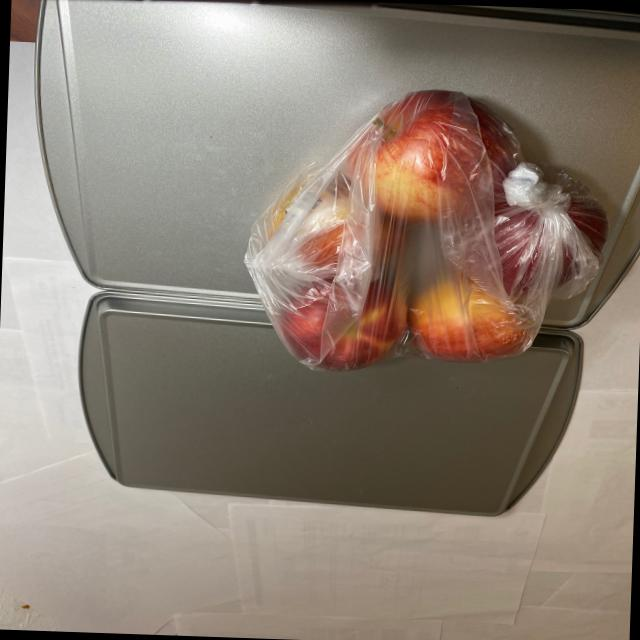apple: (242, 74, 618, 381)
